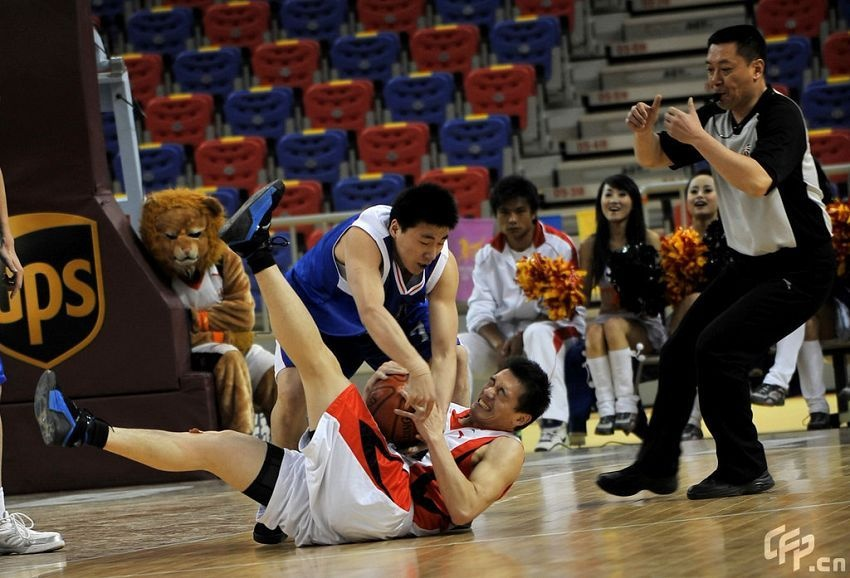falling: (44, 163, 527, 578)
